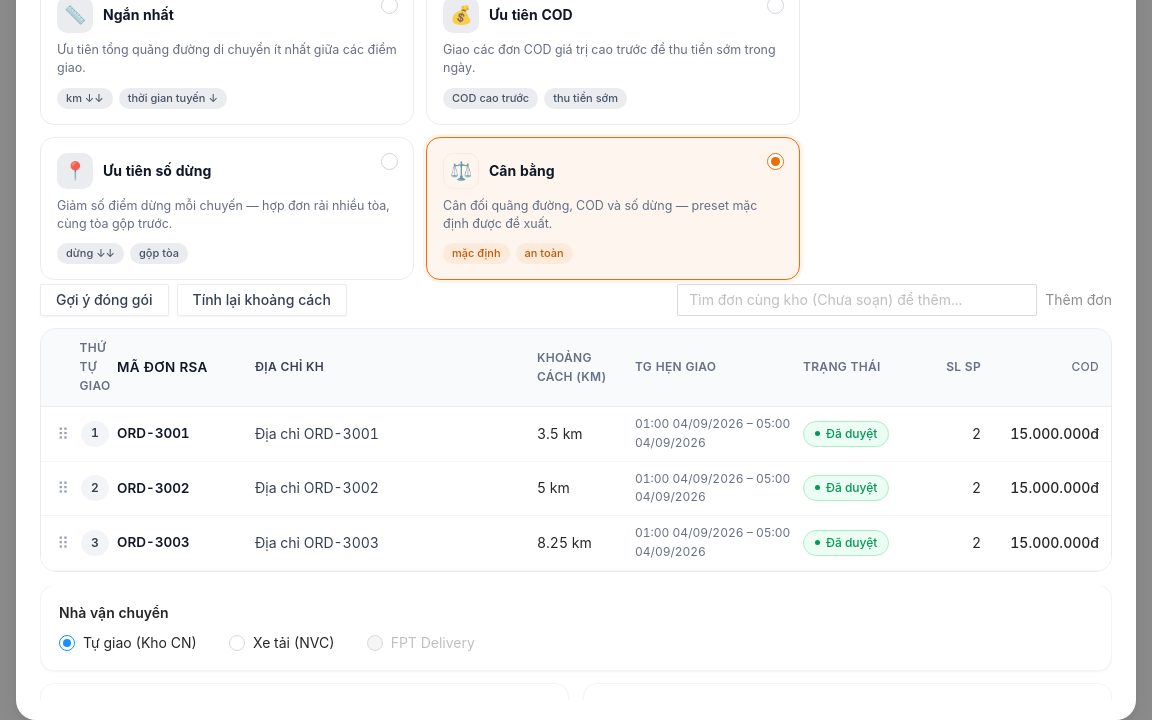
CreateBatchingModal › SF-16 T5: đang chọn 1T rồi refetch trả 1T vượt hạn mức → selection cleared + banner + submit disabled
(page scrolled)
Step 1. Click the radio button with test id "carrier-group-TRUCK" → (286, 643), box [229,632,343,654]
(page scrolled)
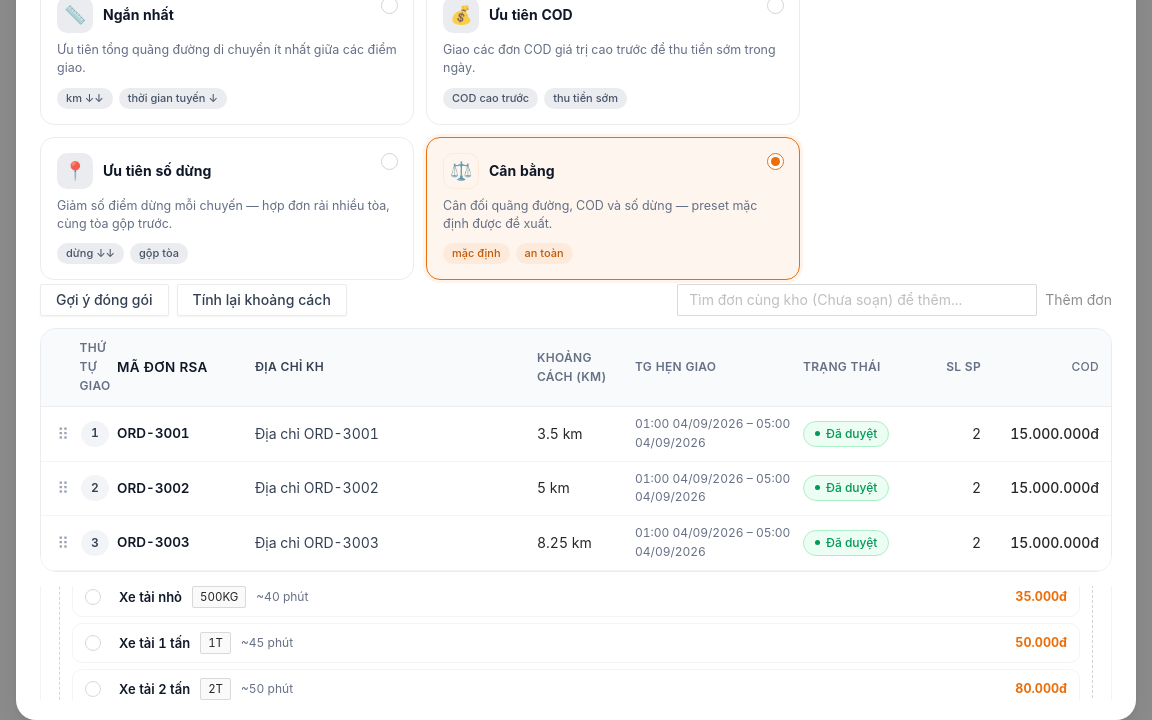
Step 2. Click the radio button labelled "Xe tải 1 tấn 1T ~45 phút 50.000đ" → (155, 643), box [72,623,1080,663]
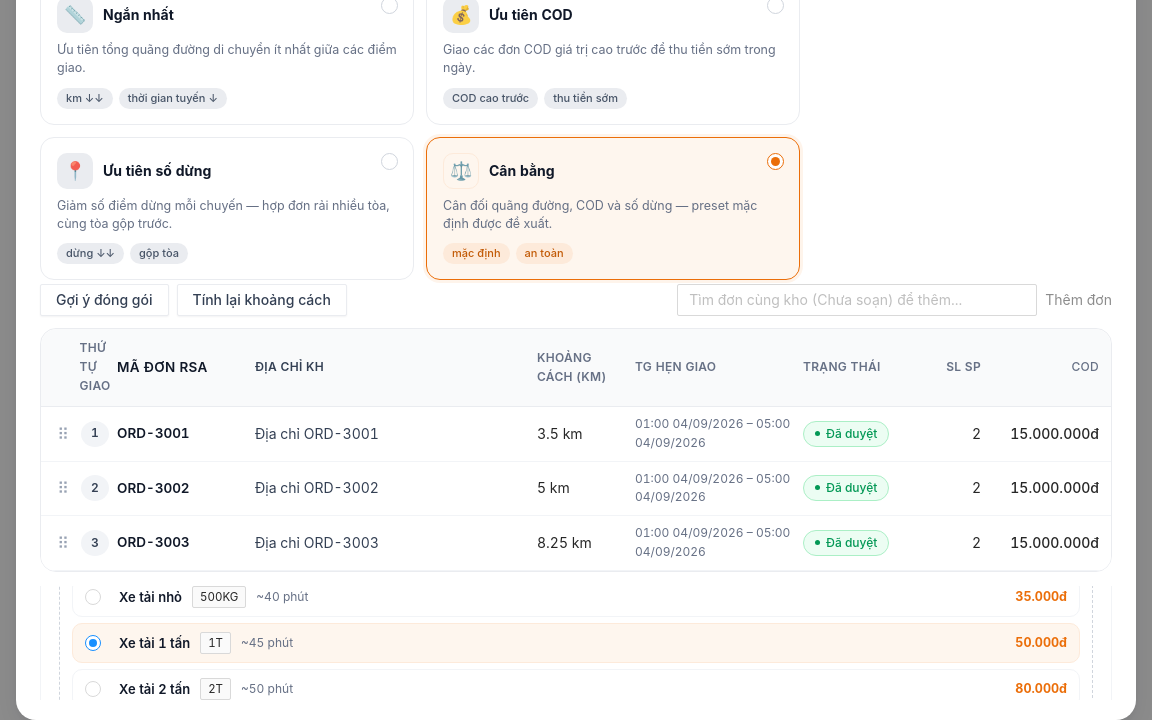
Expected: the radio button labelled "Xe tải 1 tấn 1T ~45 phút 50.000đ" is checked, [72,623,1080,663]
Step 3. Click the button with test id "batch-recalc-distance" → (262, 300), box [176,284,347,316]
(page scrolled)
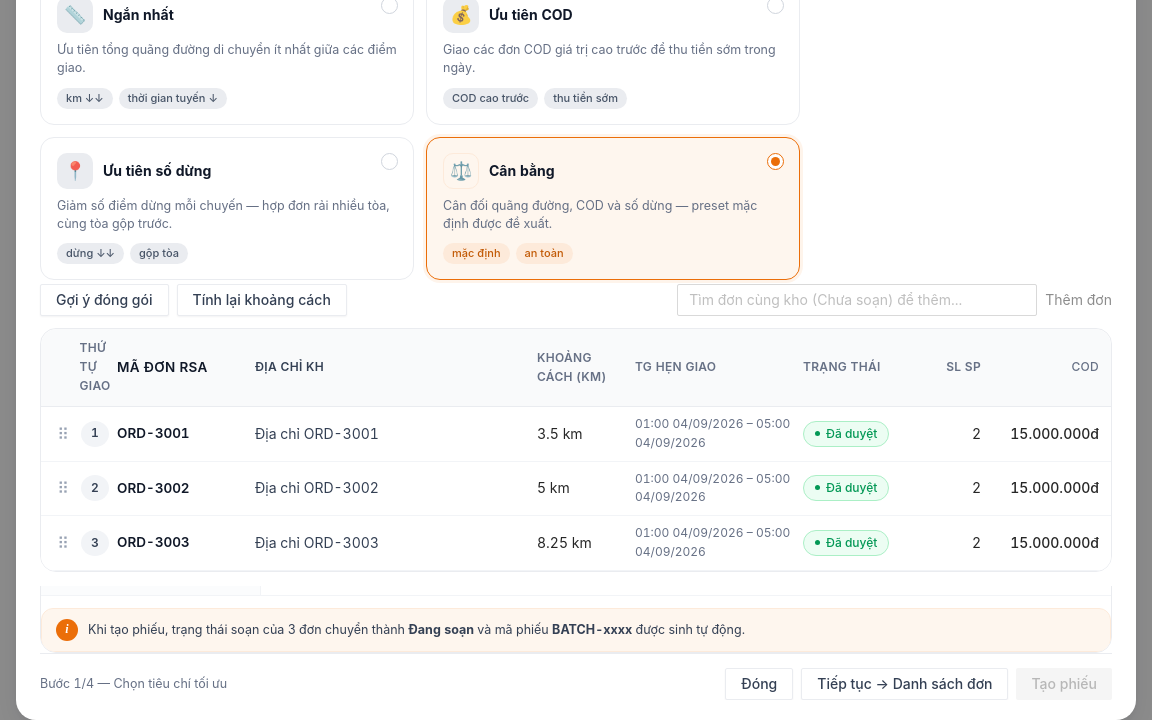
Expected: the button with test id "batch-submit" is disabled, [1016,668,1112,700]
